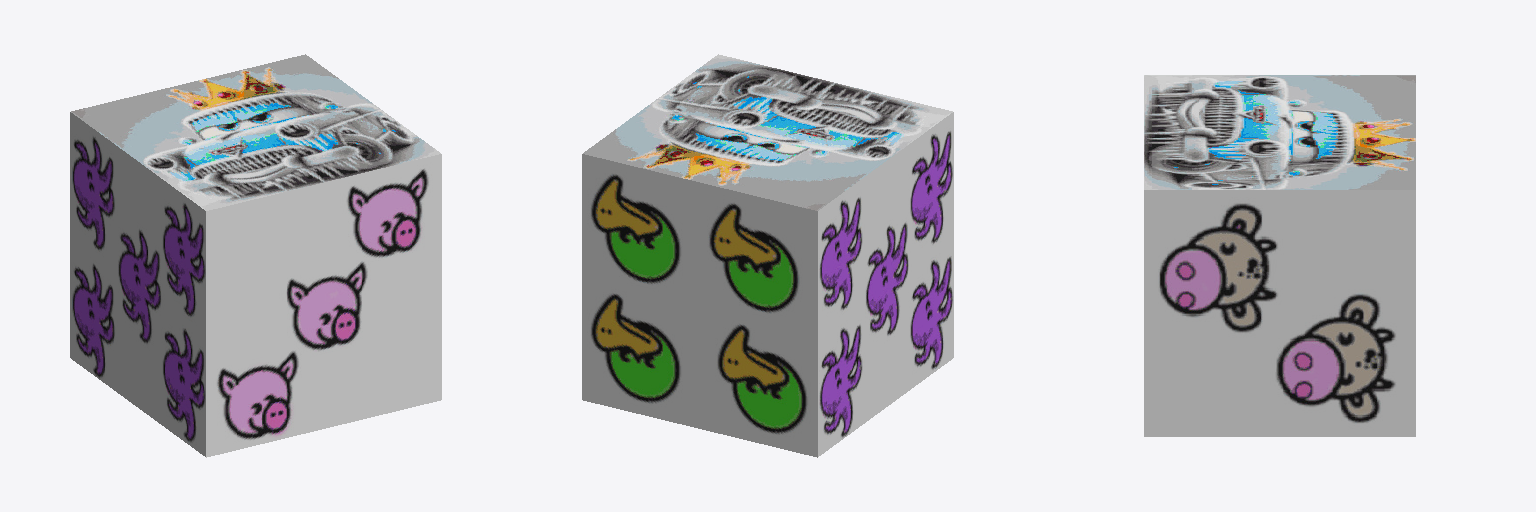
The picture shows the model from 3 angles: view 1: azimuth 30°, elevation 25°; view 2: azimuth 150°, elevation 25°; view 3: azimuth 270°, elevation 25°; orthographic projection.
Parts seen in each view (by area): view 1: Box001; view 2: Box001; view 3: Box001.
Boxes of the visible parts, <box> form: Box001: <box>70,54,441,457</box>; Box001: <box>582,54,953,457</box>; Box001: <box>1144,75,1415,436</box>.
Size of the model in its own units: 2.78 by 2.78 by 2.78.
Materials: 1 (1 with a texture image).